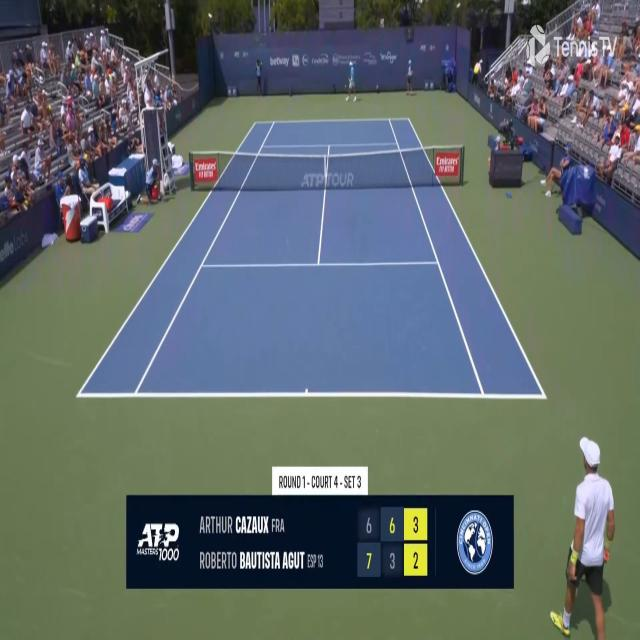tennis-player: (550, 434, 617, 639), (344, 59, 358, 104)
